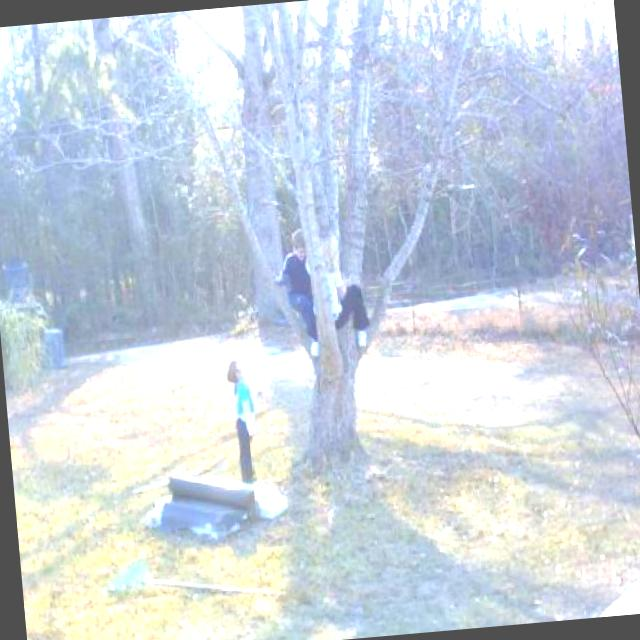Person: (268, 222, 370, 358), (298, 222, 362, 318), (220, 351, 266, 481)
